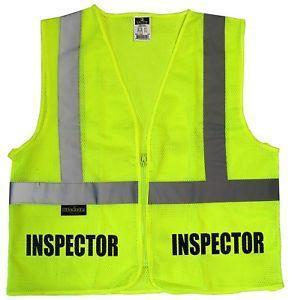vest: (8, 3, 286, 293)
